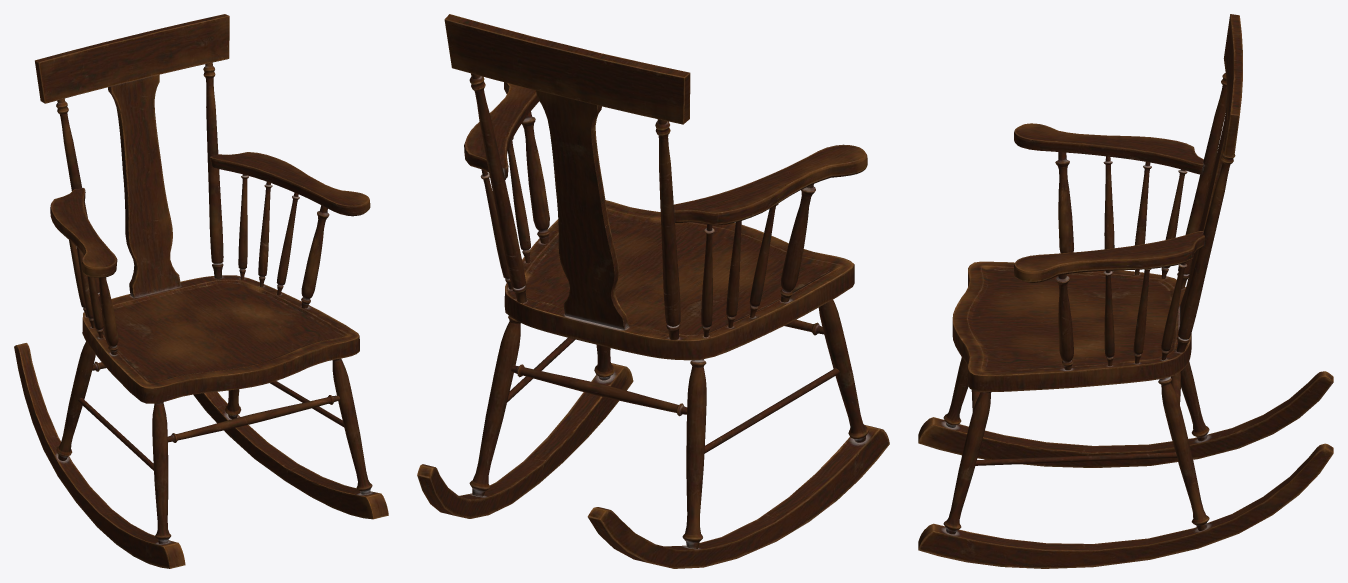
The model's file is Rockingchair_01_1k.gltf.
3 renders of one model, left to right at view 1: azimuth 30°, elevation 25°; view 2: azimuth 150°, elevation 25°; view 3: azimuth 270°, elevation 25°, orthographic. The views are drawn at different scales.
Visible parts, largest first — view 1: Rockingchair_01; view 2: Rockingchair_01; view 3: Rockingchair_01.
Part boxes in pixels (box(x1,y1,x2,y2)): Rockingchair_01: box(14, 14, 388, 568); Rockingchair_01: box(417, 14, 889, 568); Rockingchair_01: box(918, 14, 1333, 568).
Size of the model in its own units: 0.7081 by 0.9949 by 0.8335.
1 material, 1 textured.
